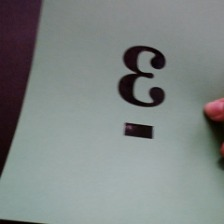green3: (114, 38, 173, 150)
